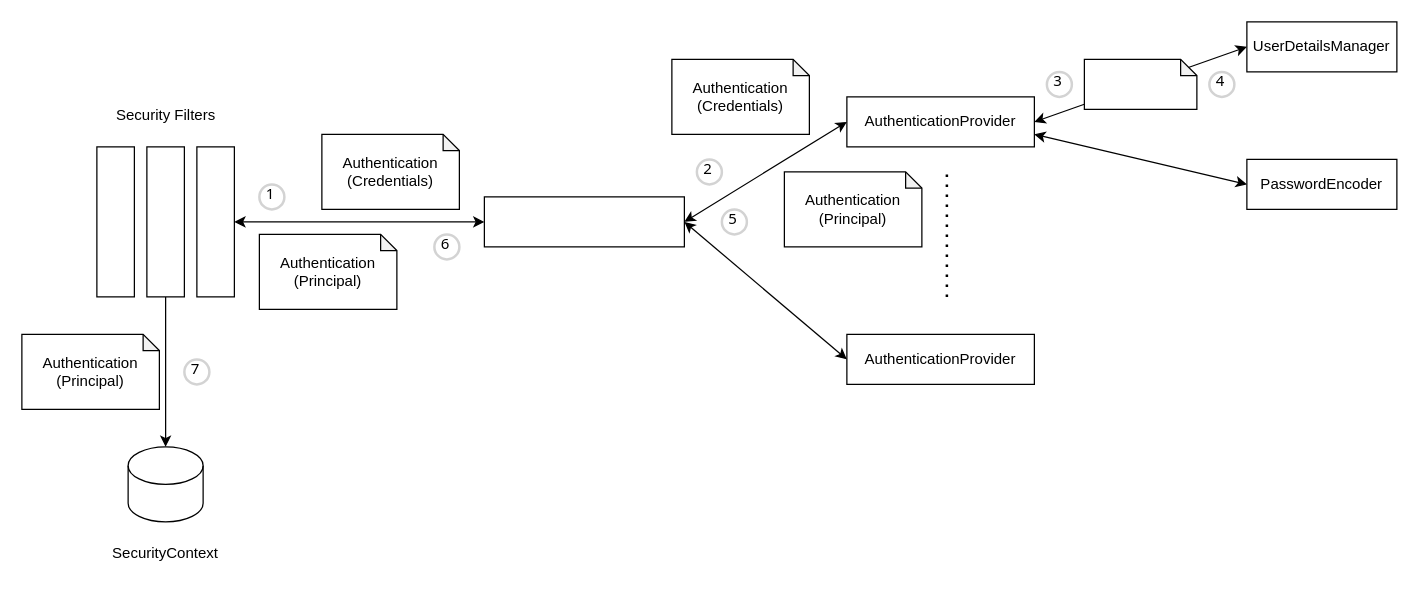
This 1419x594 diagram has some shape labels left out. The shapes that lost their labels are listed below. From the top down, each one's centre as x and y in pixels, then its label:
[1140,83]: UserDetails
[583,221]: AuthenticationManager
